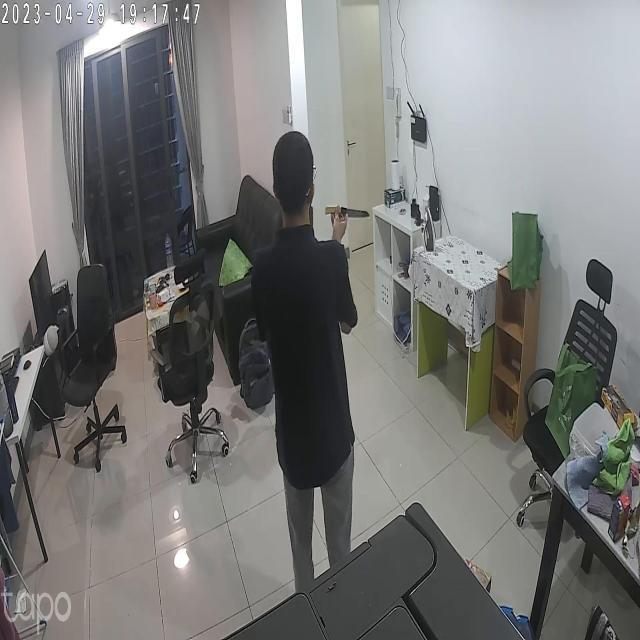Knife: (322, 200, 375, 223)
